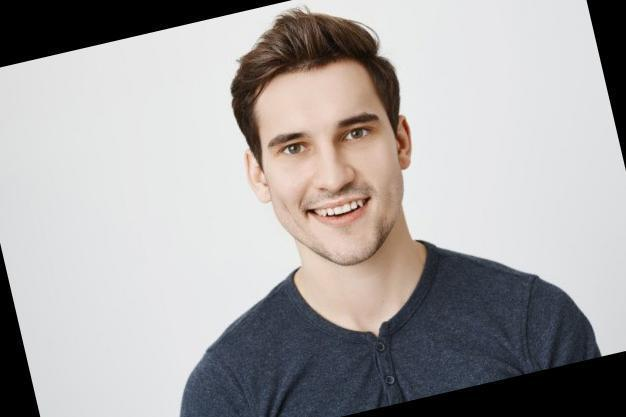Sober: (254, 64, 399, 262)
